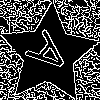A: (24, 29, 79, 84)
